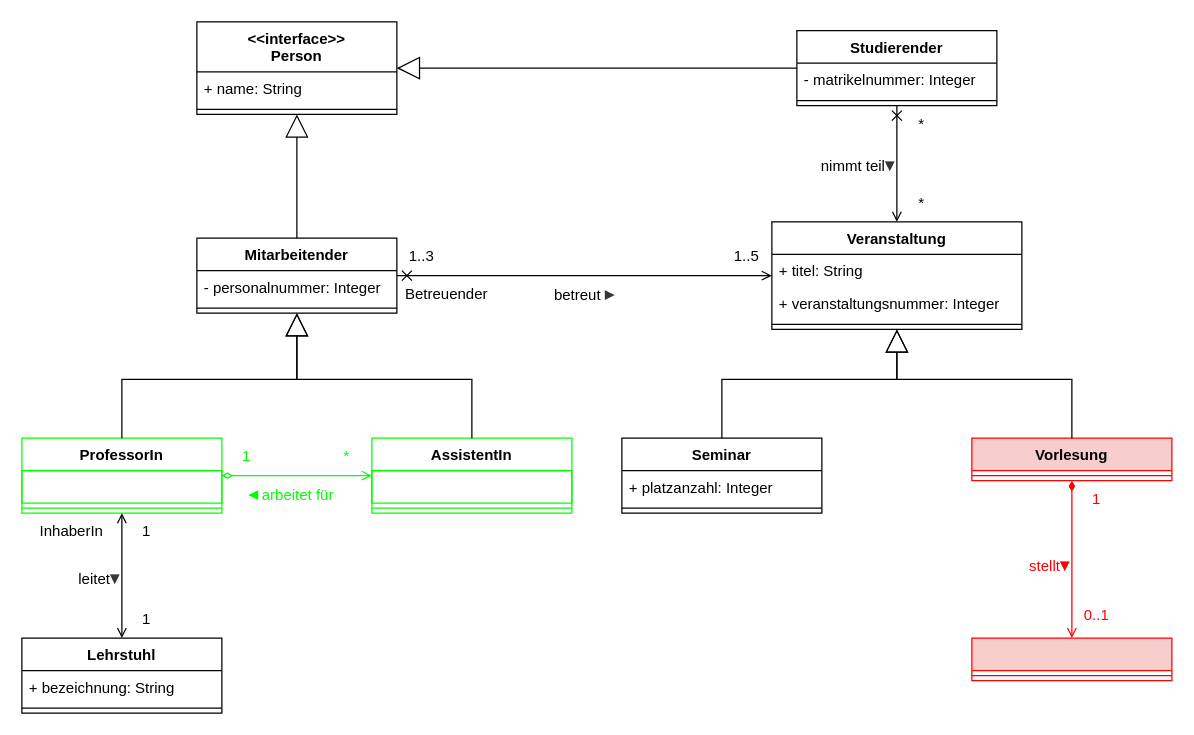
The diagram is 1194 pixels wide and 735 high, and some of its shapes have lost their labels. The shapes that lost their labels are listed below. From the top down, each one's centre as x and y in pixels, then its label:
At pixel 121 486: "+ lehrgebiet: String".
At pixel 471 486: "- finanzierung: String".
At pixel 1071 659: "Klausur".
